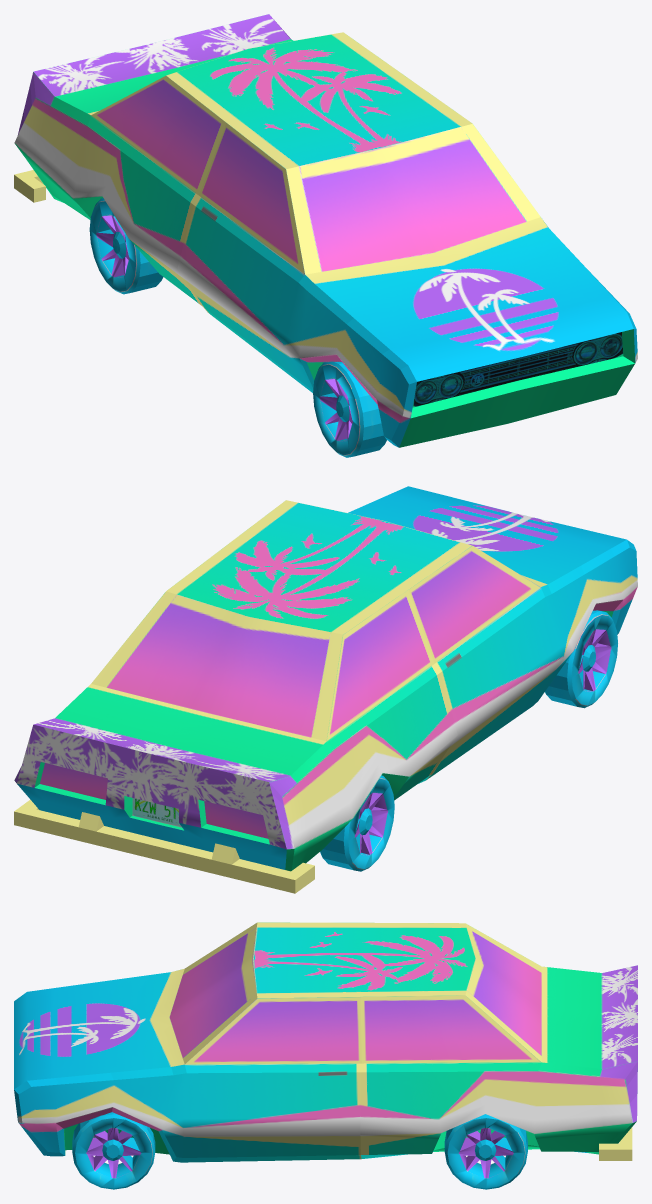
Rendered from vaporwave_car.glb.
The picture shows the model from 3 angles, top to bottom: view 1: azimuth 30°, elevation 25°; view 2: azimuth 150°, elevation 25°; view 3: azimuth 270°, elevation 25°; orthographic projection. The views are drawn at different scales.
Visible parts, largest first — view 1: Object_4, Object_3, Object_5; view 2: Object_4, Object_3, Object_5; view 3: Object_4, Object_3, Object_5.
Part boxes in pixels (bbox=[...]): Object_4: bbox=[14, 14, 637, 447]; Object_3: bbox=[89, 198, 386, 457]; Object_5: bbox=[14, 170, 45, 202]; Object_4: bbox=[14, 486, 637, 871]; Object_3: bbox=[320, 610, 617, 871]; Object_5: bbox=[14, 799, 314, 893]; Object_4: bbox=[14, 922, 637, 1162]; Object_3: bbox=[72, 1112, 527, 1189]; Object_5: bbox=[599, 1127, 632, 1160].
Size of the model in its own units: 2.29 by 1.68 by 5.27.
4 materials, 4 textured.
